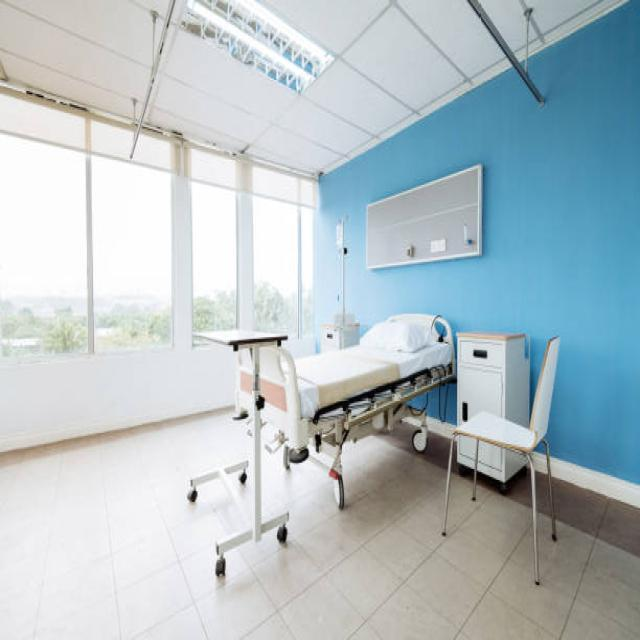bed: (235, 310, 454, 510)
chair: (440, 333, 564, 599)
tools_table: (173, 305, 296, 587)
